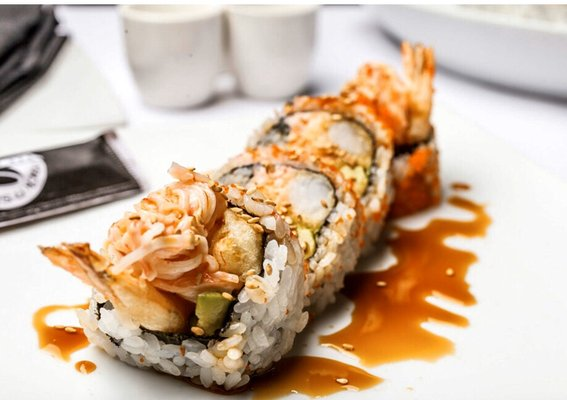pizza: (118, 2, 237, 110), (222, 2, 321, 100)
